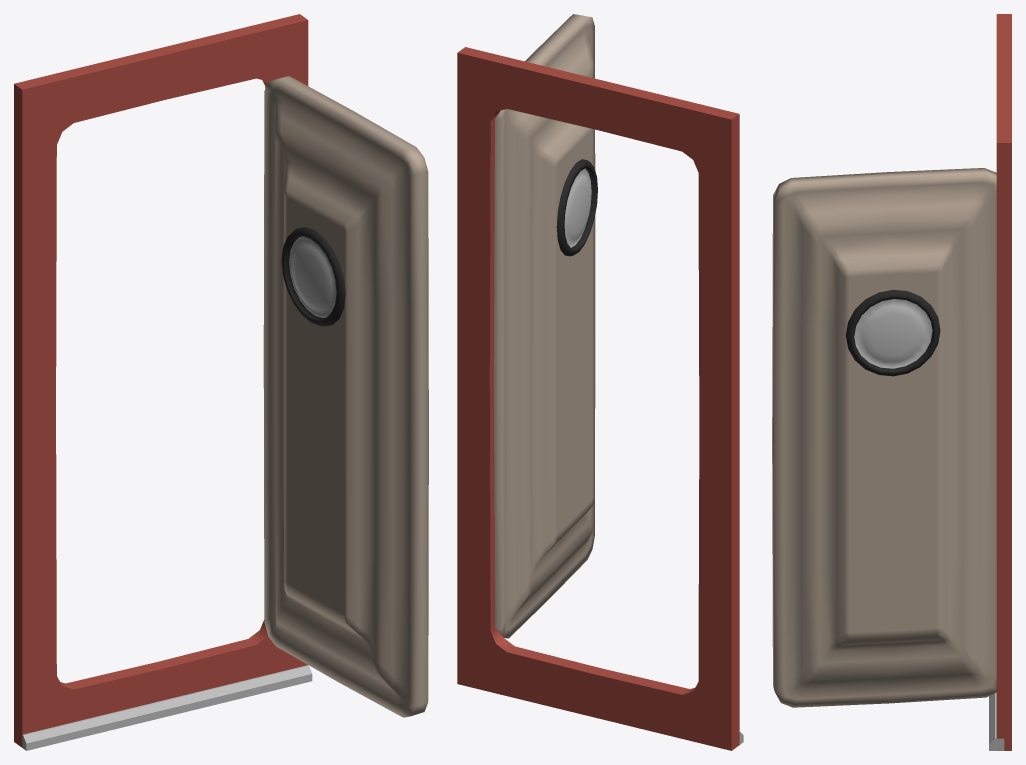
File: wall_door.fbx
The picture shows the model from 3 angles, left to right: view 1: azimuth 30°, elevation 25°; view 2: azimuth 150°, elevation 25°; view 3: azimuth 270°, elevation 25°; orthographic projection. The views are drawn at different scales.
Visible parts, largest first — view 1: wall_door; view 2: wall_door; view 3: wall_door.
Boxes of the visible parts, x1=… form: wall_door: x1=14, y1=14, x2=428, y2=750; wall_door: x1=457, y1=14, x2=743, y2=750; wall_door: x1=772, y1=14, x2=1011, y2=750.
Bounding box in the file's own units: 108 × 220 × 78.64.
